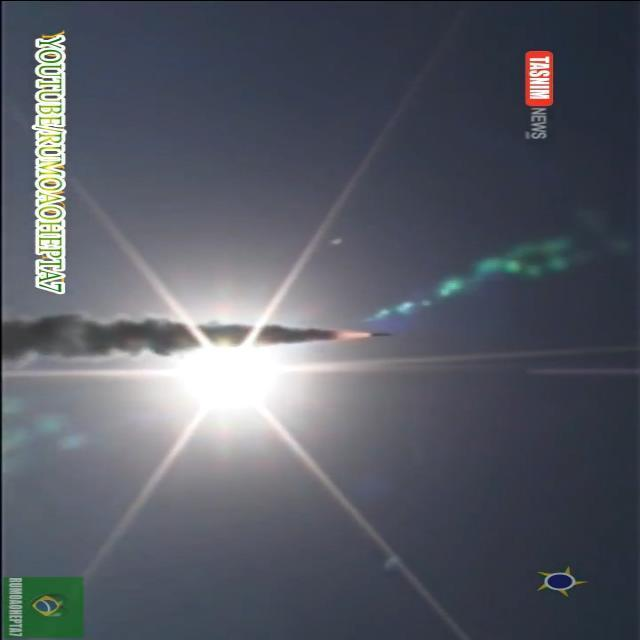Missile: (361, 329, 403, 336)
